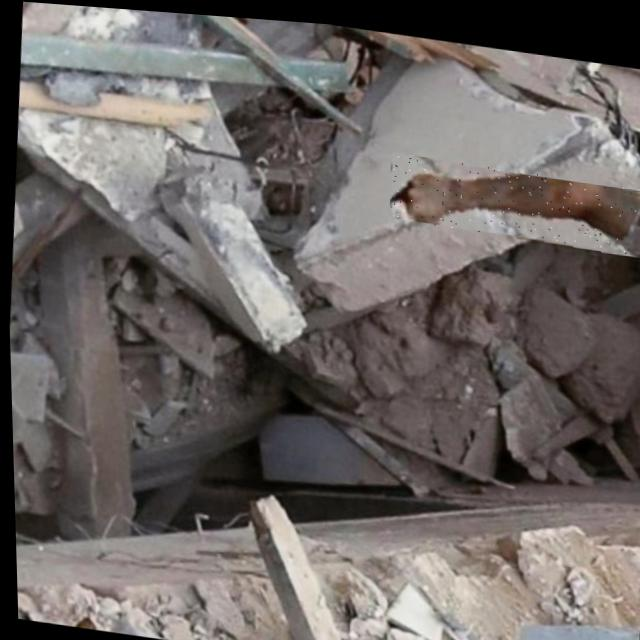Person in Rubble: (385, 146, 640, 246)
